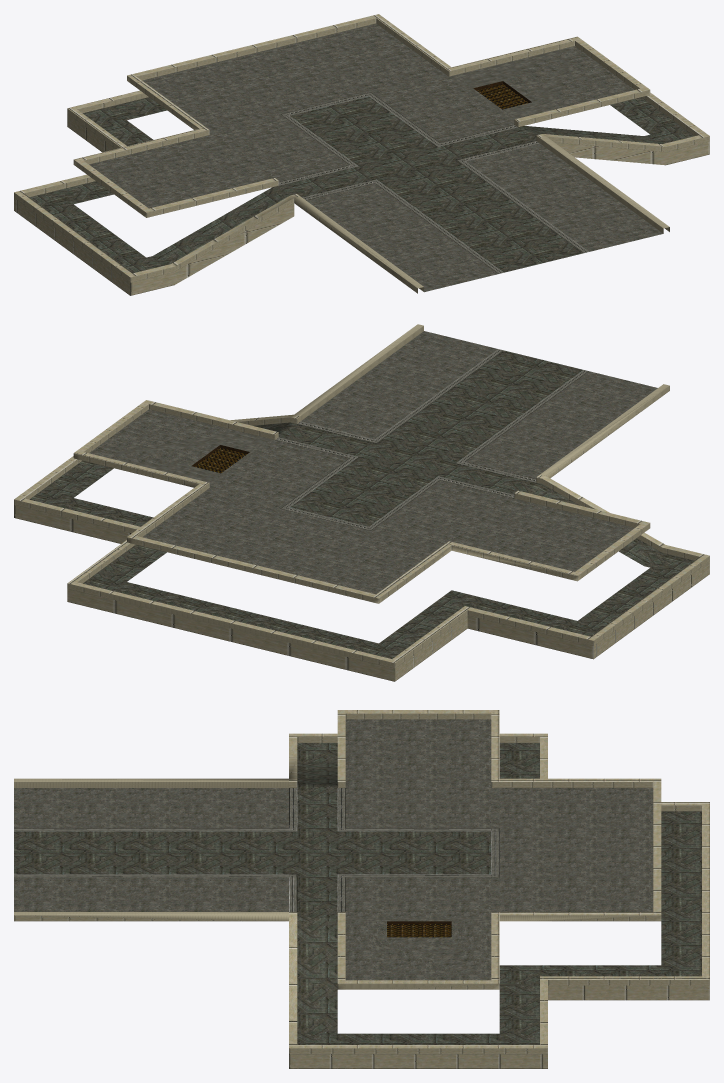
The model's file is DWARF_PALACE_FORGE ROOM_FLOOR01A.fbx.
3 renders of one model, top to bottom at view 1: azimuth 30°, elevation 25°; view 2: azimuth 150°, elevation 25°; view 3: azimuth 270°, elevation 25°, orthographic. The views are drawn at different scales.
Visible parts, largest first — view 1: DWARF_PALACE_FORGE ROOM_FLOOR01A; view 2: DWARF_PALACE_FORGE ROOM_FLOOR01A; view 3: DWARF_PALACE_FORGE ROOM_FLOOR01A.
Boxes of the visible parts, bbox=[...] form: DWARF_PALACE_FORGE ROOM_FLOOR01A: bbox=[14, 14, 709, 295]; DWARF_PALACE_FORGE ROOM_FLOOR01A: bbox=[14, 324, 709, 681]; DWARF_PALACE_FORGE ROOM_FLOOR01A: bbox=[14, 710, 709, 1068].
Size of the model in its own units: 460000 by 44000 by 430000.
Materials: 8 (8 with a texture image).
